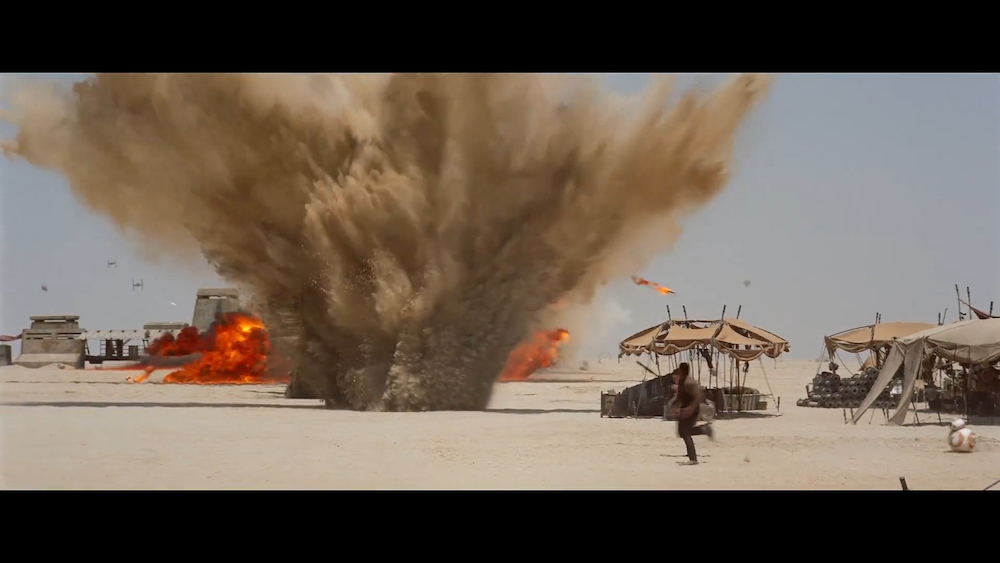Tie Fighter: (133, 280, 144, 291), (109, 261, 117, 269)
